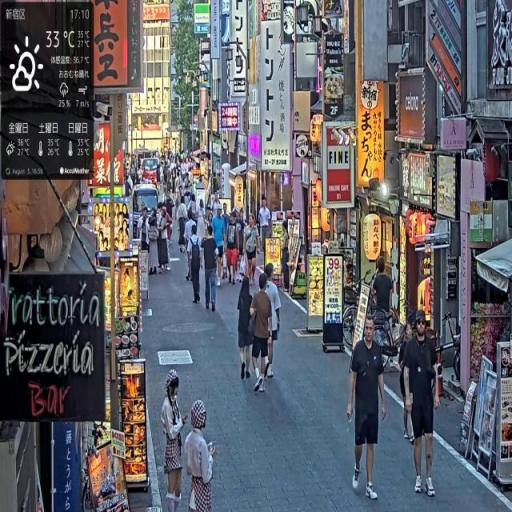person: (347, 313, 390, 503), (401, 313, 443, 499), (161, 369, 190, 511), (186, 398, 217, 512), (249, 273, 274, 395), (263, 265, 282, 383), (237, 273, 256, 379), (201, 221, 221, 316), (225, 213, 241, 288), (213, 205, 228, 284), (244, 214, 260, 286), (157, 205, 172, 274), (258, 197, 273, 259)
